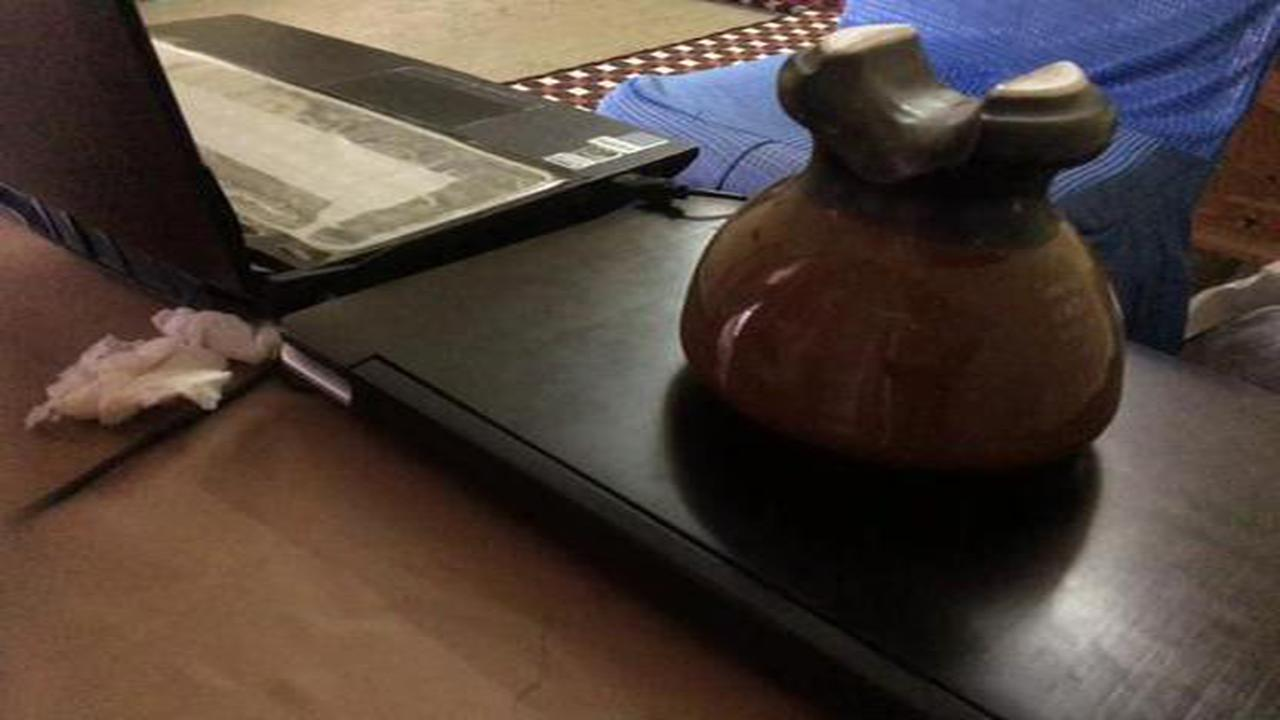insulator_pin: (668, 18, 1139, 494)
